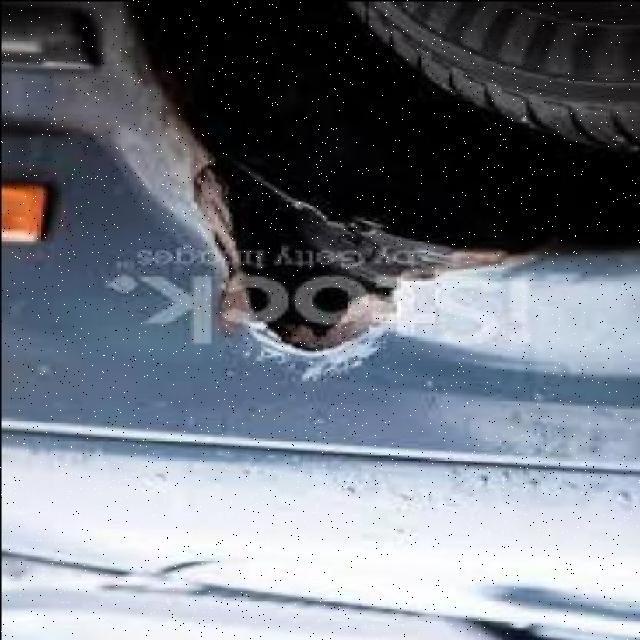damage: (99, 62, 550, 388)
